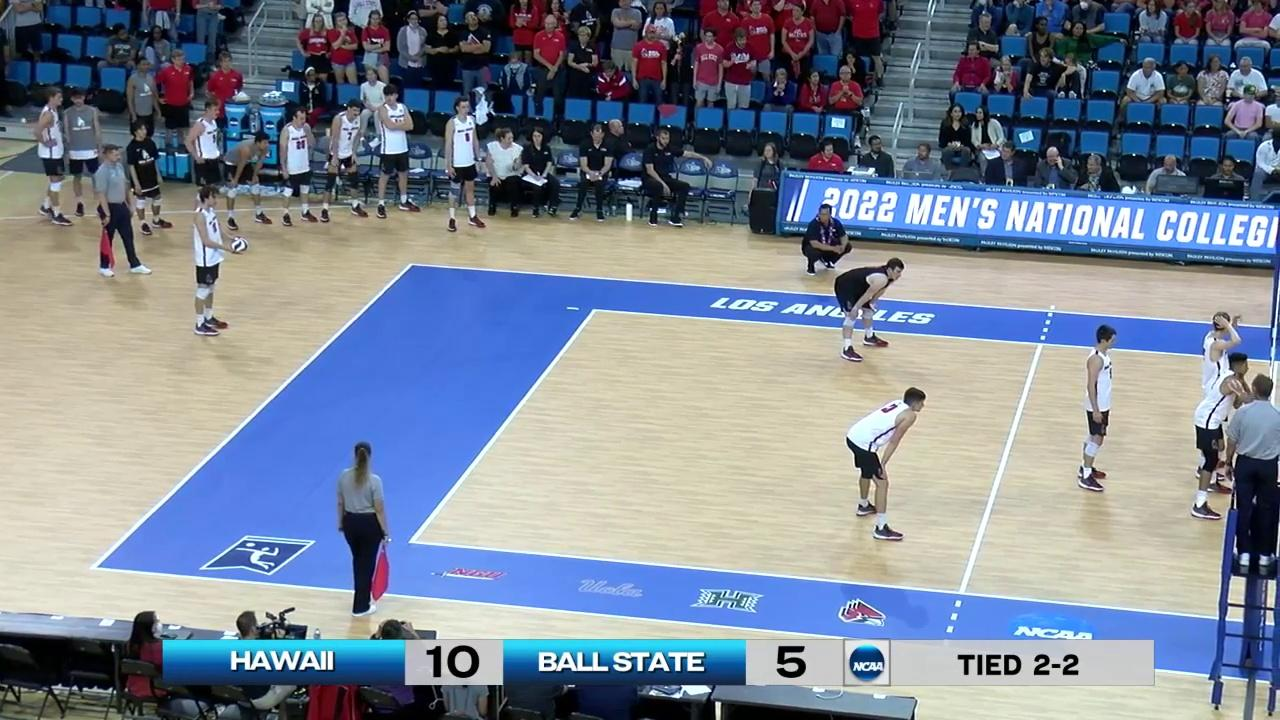player: (848, 387, 926, 544), (1194, 353, 1252, 519), (1197, 310, 1242, 481), (828, 258, 902, 360), (1075, 324, 1117, 490), (185, 191, 229, 336)
refree: (1225, 373, 1280, 573), (342, 447, 395, 617), (94, 144, 152, 277)
